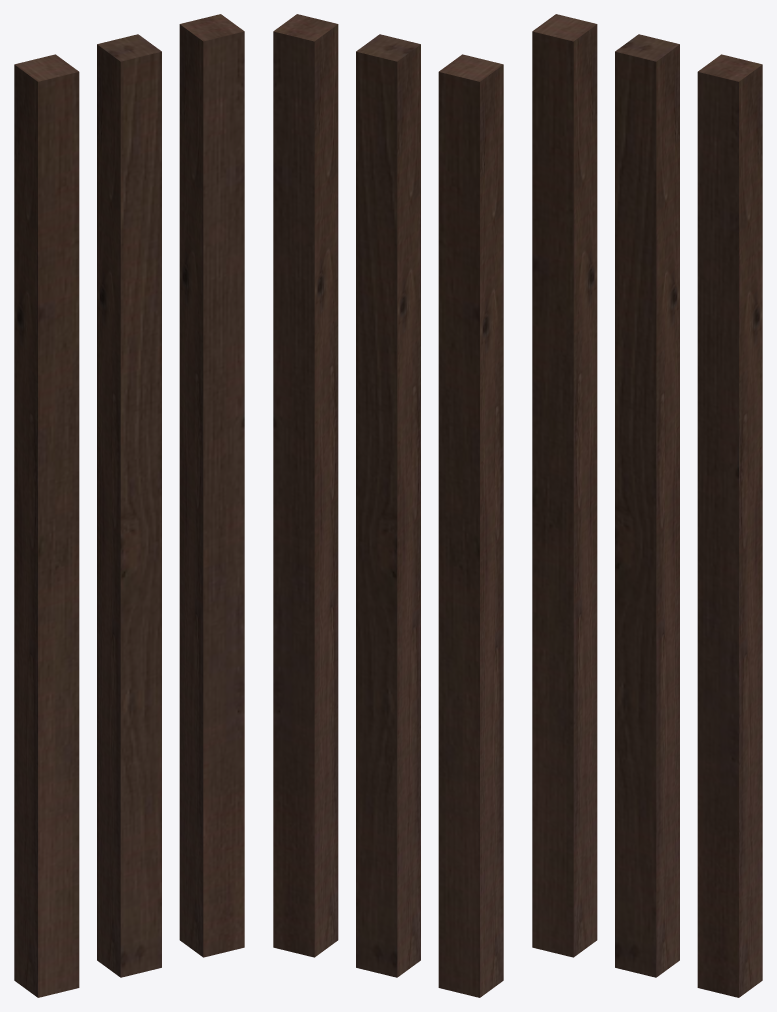
The model's file is eaw-slit-85-3_h1800_darkpine.fbx.
The picture shows the model from 3 angles, left to right: view 1: azimuth 30°, elevation 25°; view 2: azimuth 150°, elevation 25°; view 3: azimuth 330°, elevation 25°; orthographic projection.
Visible parts, largest first — view 1: eaw-slit-85-3_h1800_darkpine; view 2: eaw-slit-85-3_h1800_darkpine; view 3: eaw-slit-85-3_h1800_darkpine.
Boxes of the visible parts, bbox=[...] form: eaw-slit-85-3_h1800_darkpine: bbox=[14, 14, 244, 997]; eaw-slit-85-3_h1800_darkpine: bbox=[273, 14, 503, 997]; eaw-slit-85-3_h1800_darkpine: bbox=[532, 14, 762, 997].
Size of the model in its own units: 42.5 by 180 by 8.5.
1 material, 1 textured.
